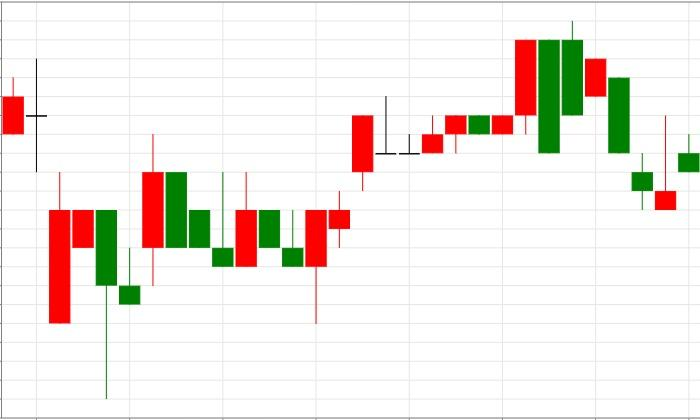bearish_engulfing_fall: (305, 39, 561, 325)
bullish_engulfing_rise: (141, 133, 258, 267), (234, 172, 328, 324)
inverse_hammer_rise: (2, 57, 141, 399), (560, 21, 677, 211), (141, 133, 234, 268)
